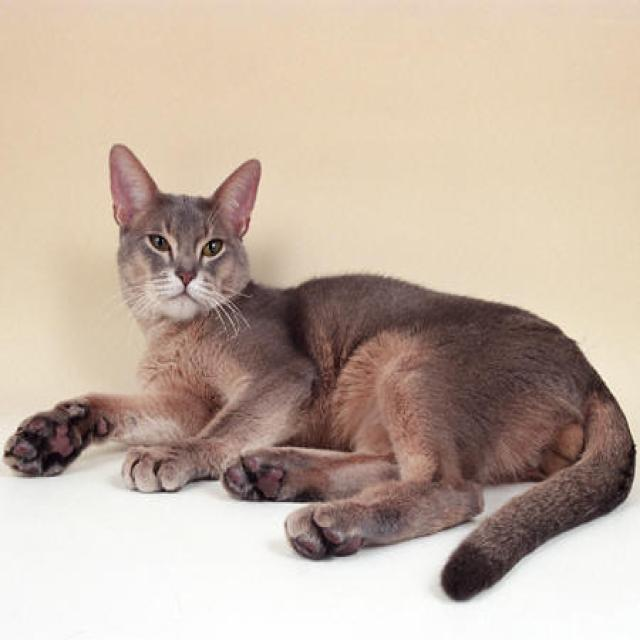Abyssinian: (106, 143, 265, 340)
